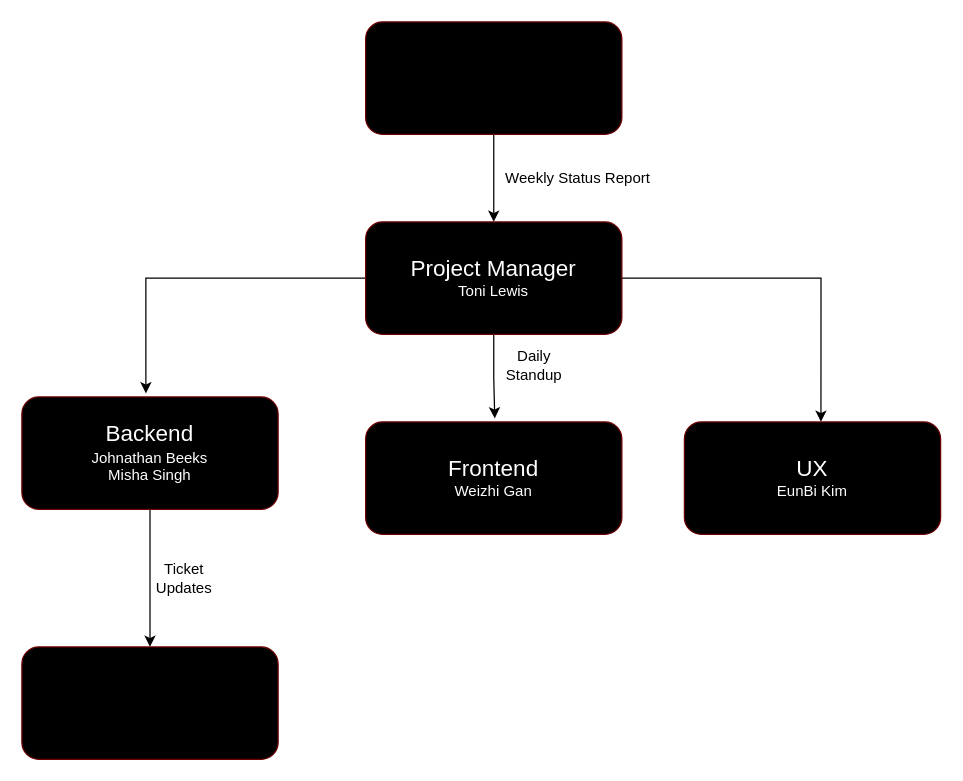
This 963x781 diagram has some shape labels left out. The centre of each missing label's shape, as x and y in pixels:
"End Users Ticket resolution updates" belongs at point (149, 702).
"Product Owner Hollie Long" belongs at point (493, 77).
